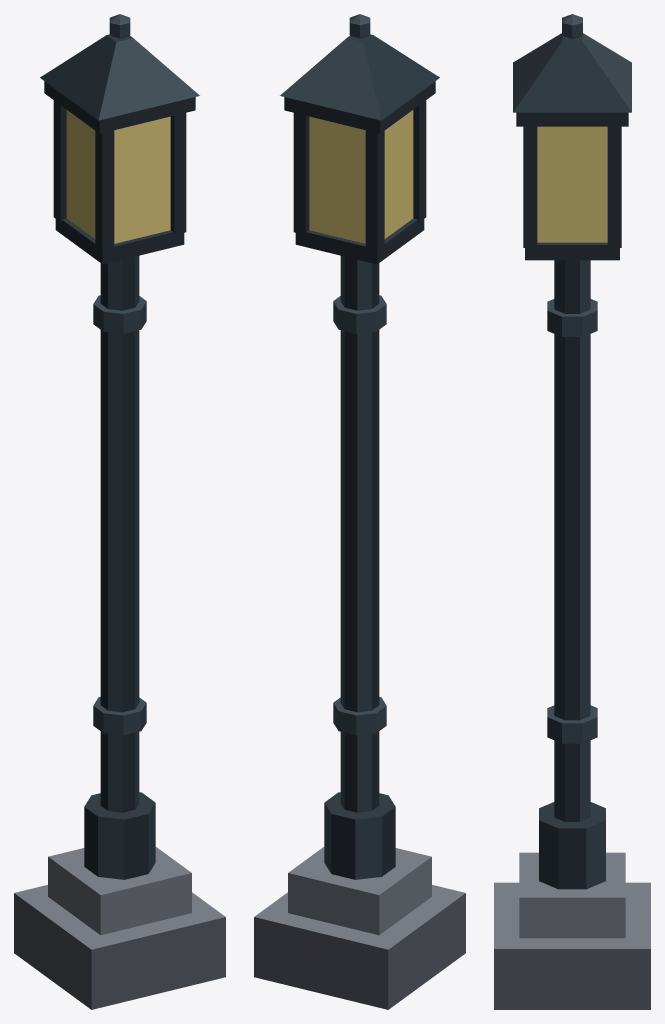
Rendered from lamp_post.glb.
The picture shows the model from 3 angles, left to right: view 1: azimuth 30°, elevation 25°; view 2: azimuth 150°, elevation 25°; view 3: azimuth 270°, elevation 25°; orthographic projection.
Parts seen in each view (by area): view 1: lamp_post; view 2: lamp_post; view 3: lamp_post.
Boxes of the visible parts, x1,y1,x2,y2 form: lamp_post: (14, 14, 225, 1009); lamp_post: (254, 14, 465, 1009); lamp_post: (494, 14, 650, 1009).
Bounding box in the file's own units: 0.56 × 3.79 × 0.56.
